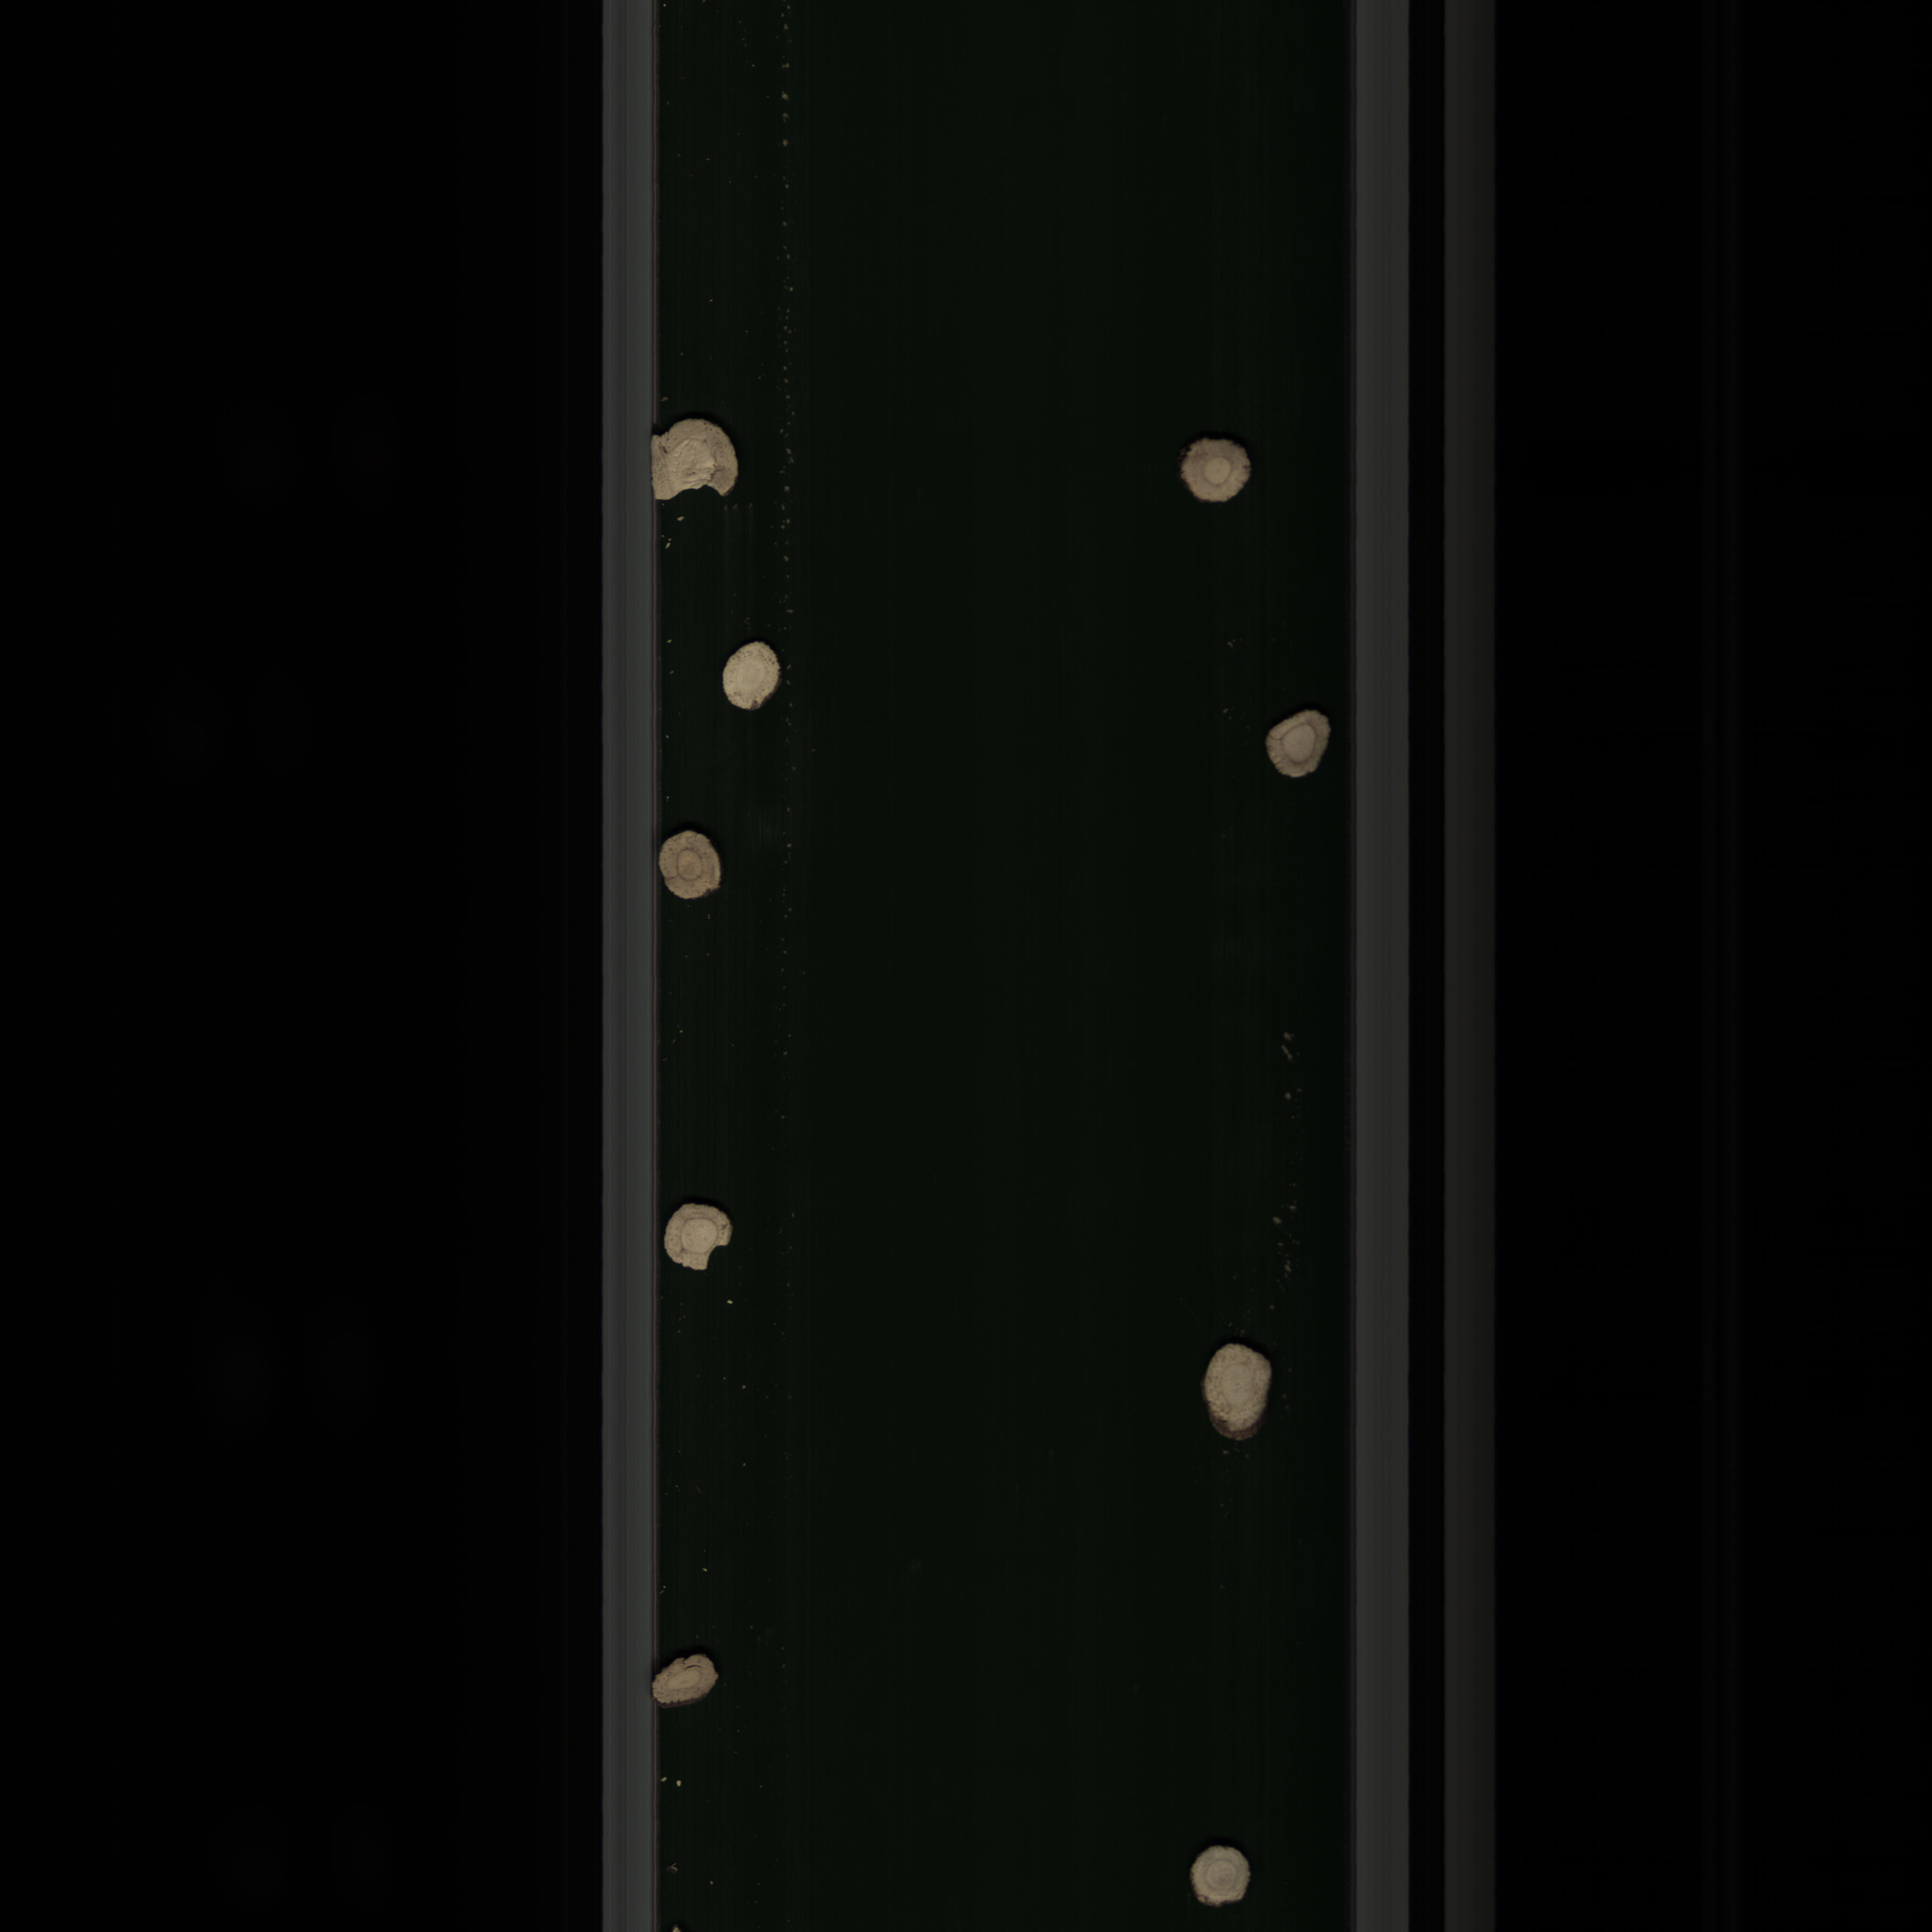debris: (651, 403, 748, 510), (658, 1191, 741, 1276)
moldy: (1265, 706, 1336, 784)
